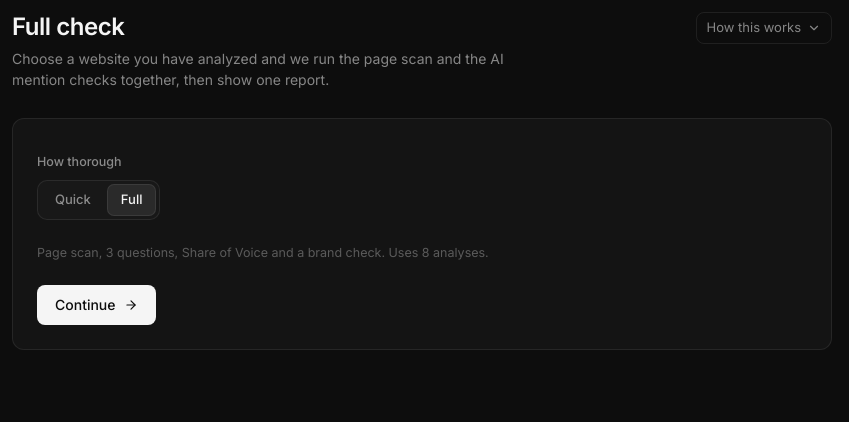
Scenario: Full check flow › lets the user type their own question when suggestions fail
Click the button "Continue".
click(96, 304)  # box x1=37 y1=284 x2=156 y2=324
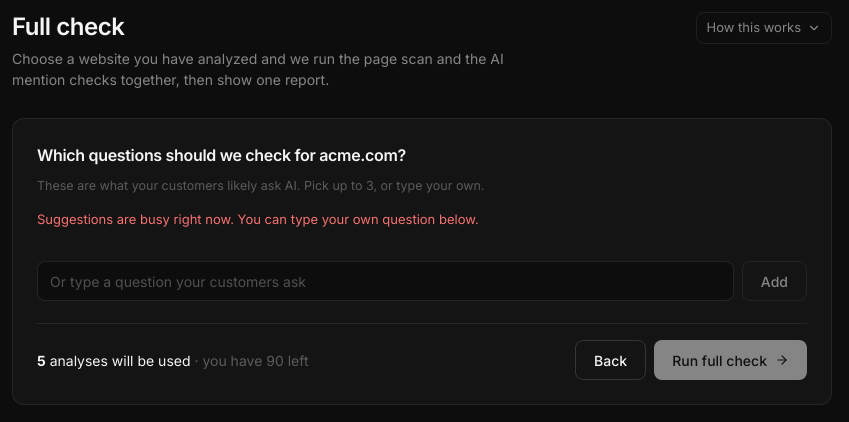
Now the text "Suggestions are busy right now. You can type your own question below." is shown, box x1=37 y1=211 x2=479 y2=227
Now the field with placeholder "Or type a question your customers ask" is shown, box x1=37 y1=261 x2=734 y2=301
